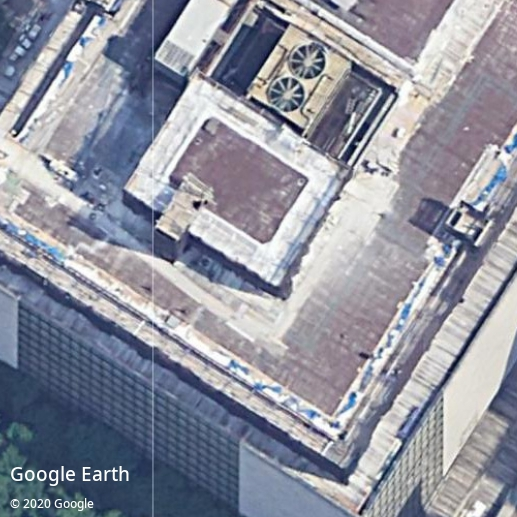Vent: (288, 43, 326, 80), (268, 76, 305, 113)
